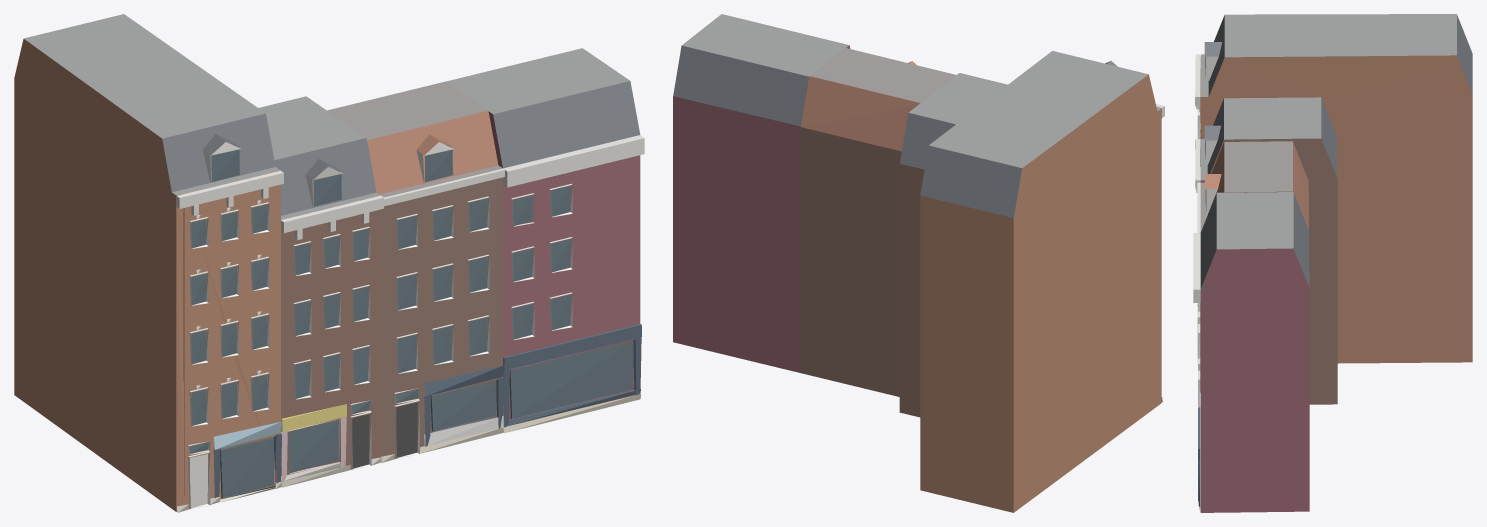
File: chunk-face-bilder-153622-156732.lod2.glb
The picture shows the model from 3 angles, left to right: view 1: azimuth 30°, elevation 25°; view 2: azimuth 150°, elevation 25°; view 3: azimuth 270°, elevation 25°; orthographic projection. The views are drawn at different scales.
Parts seen in each view (by area): view 1: lod2; view 2: lod2; view 3: lod2.
Boxes of the visible parts, left/top/right/bottom form: lod2: left=14, top=14, right=644, bottom=512; lod2: left=673, top=14, right=1164, bottom=512; lod2: left=1193, top=14, right=1472, bottom=512.
Bounding box in the file's own units: 24.51 × 18.28 × 15.09.
